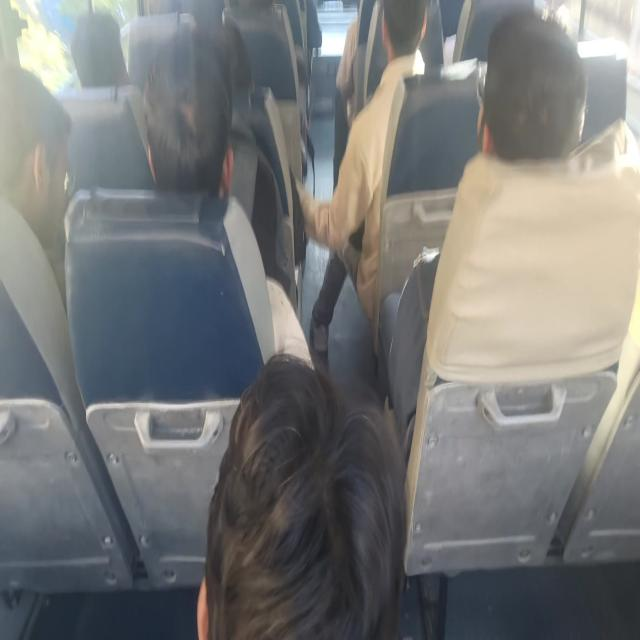person: (386, 9, 639, 448), (196, 351, 407, 638), (293, 0, 427, 361), (141, 25, 295, 312), (0, 62, 72, 313), (142, 26, 234, 198), (70, 10, 130, 89)
